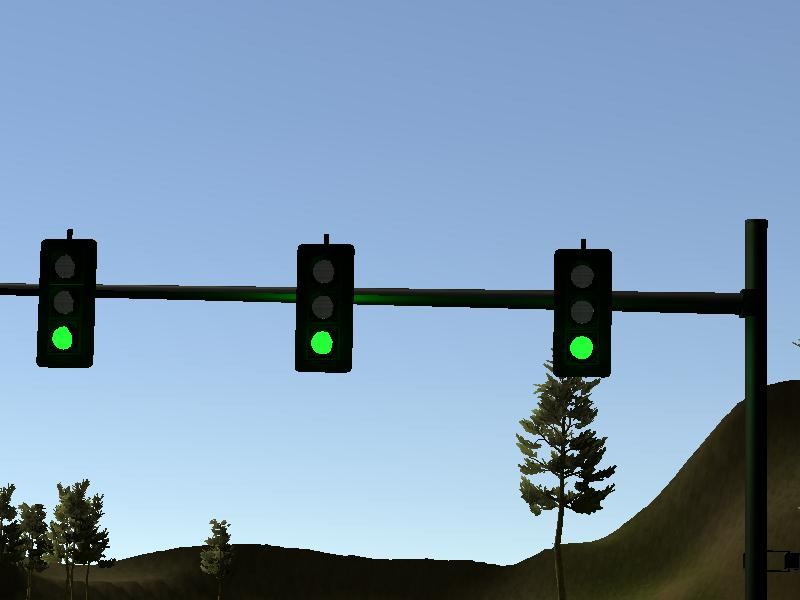green: (551, 247, 613, 378), (294, 242, 353, 374), (38, 237, 95, 367)
